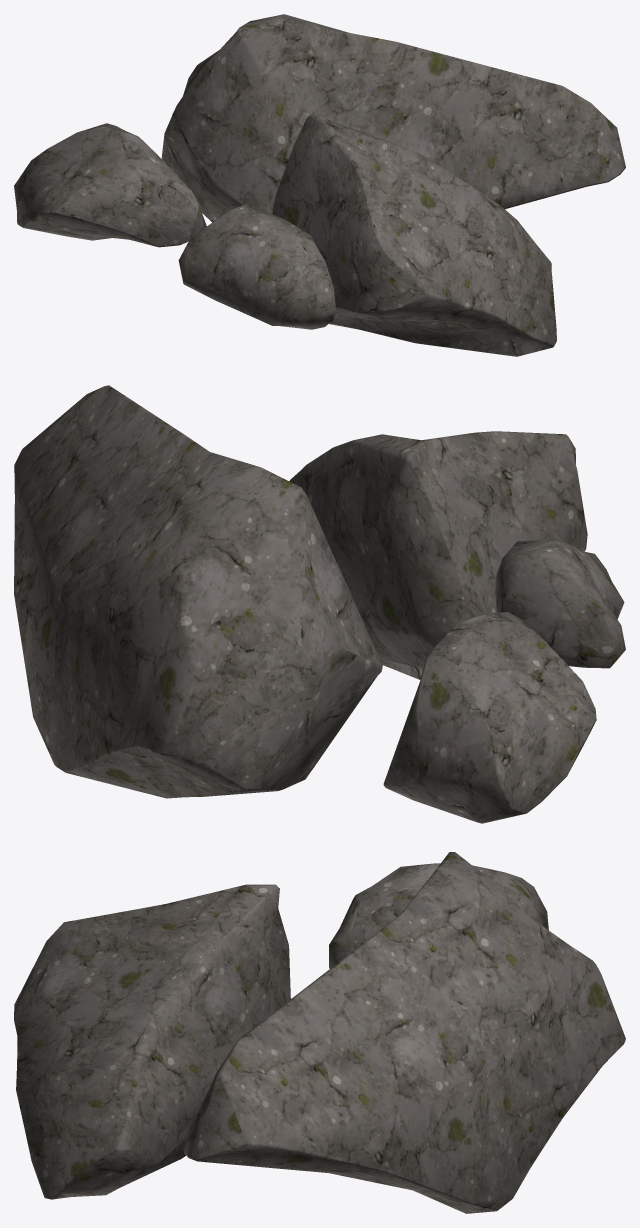
The model's file is rocks_medium_01.fbx.
3 renders of one model, top to bottom at view 1: azimuth 30°, elevation 25°; view 2: azimuth 150°, elevation 25°; view 3: azimuth 270°, elevation 25°, orthographic. The views are drawn at different scales.
Parts seen in each view (by area): view 1: GEOM0_LOD0; view 2: GEOM0_LOD0; view 3: GEOM0_LOD0.
Part boxes in pixels (x1=…): GEOM0_LOD0: x1=14, y1=14, x2=625, y2=356; GEOM0_LOD0: x1=14, y1=385, x2=625, y2=823; GEOM0_LOD0: x1=14, y1=852, x2=625, y2=1213.
Size of what is drawn, in the model's own units: 1109 by 522 by 1006.
